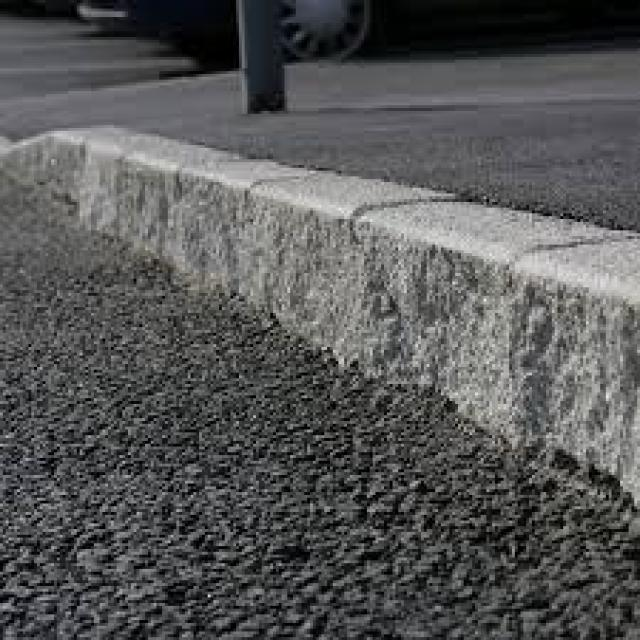curb: (399, 205, 640, 514), (266, 170, 398, 386), (162, 134, 271, 320), (74, 122, 166, 273), (6, 114, 74, 210)
